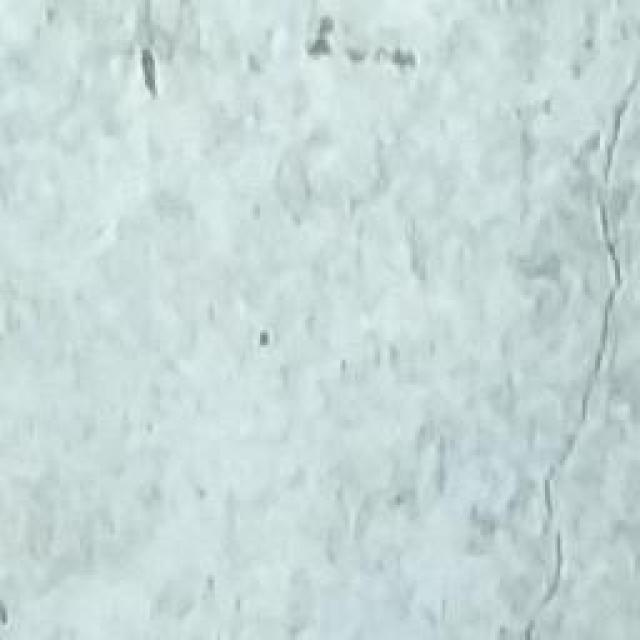Longitudinal: (516, 69, 640, 640)
